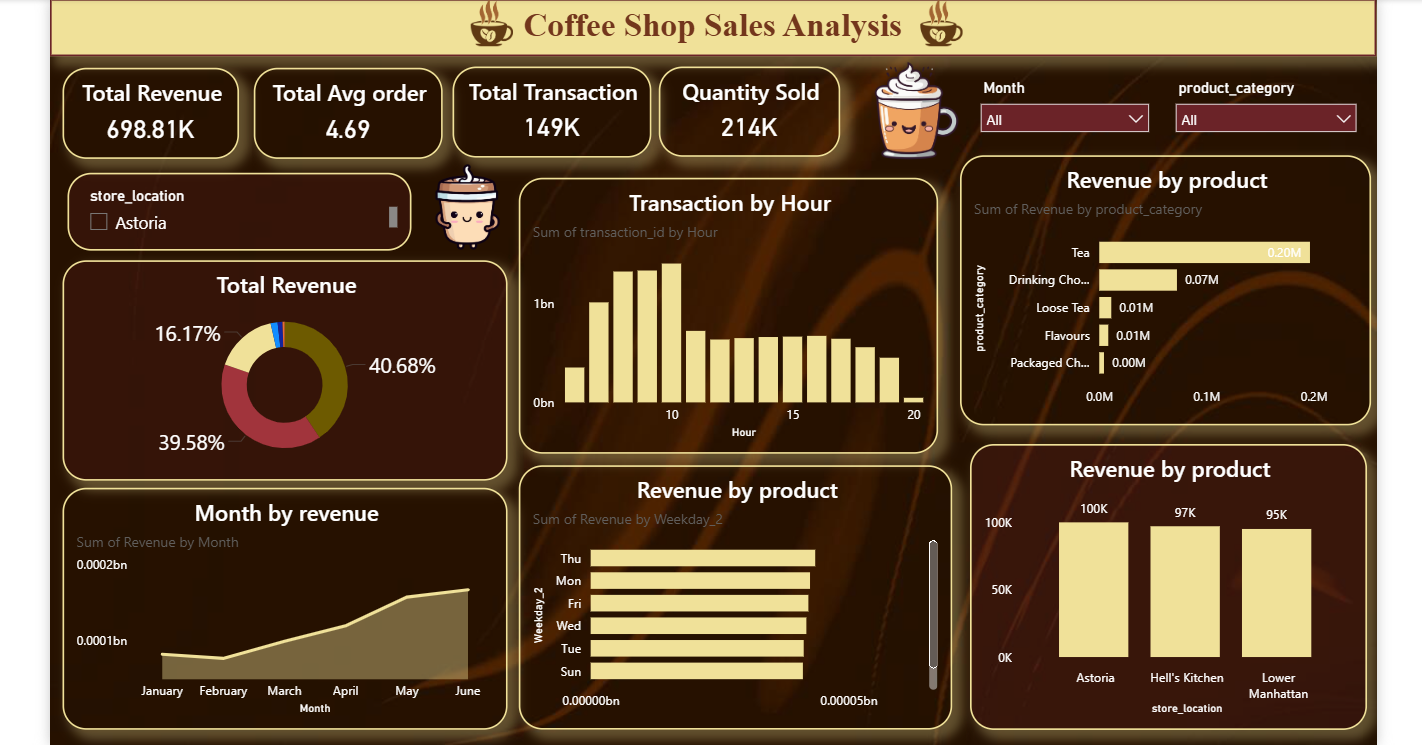

The page's visual inventory and layout, read from the dashboard file:
{"tool":"powerbi","page":{"name":"Page 1","canvas":[1280,720],"ordinal":0},"visuals":[{"type":"card","title":"Total Revenue","fields":{"Values":["Sum(Sheet1.Revenue)"]},"box":[12.1,66.4,170.1,88.1],"z":0},{"type":"card","title":"Total Avg order","fields":{"Values":["Sheet1.Avg Order Value"]},"box":[196.6,66.4,182.2,88.1],"z":1000},{"type":"card","title":"Total Transaction","fields":{"Values":["Sheet1.Total Transactions"]},"box":[388.5,65.1,191.8,88.1],"z":2000},{"type":"card","title":" Quantity Sold","fields":{"Values":["Sheet1.Total Quantity Sold"]},"box":[587.5,65.1,174.9,86.9],"z":3000},{"type":"areaChart","title":" Month by revenue","fields":{"Category":["Sheet1.transaction_date.Variation.Date Hierarchy.Month"],"Y":["Sum(Sheet1.Revenue)"]},"box":[12.3,472,429.5,233.3],"z":4000},{"type":"clusteredBarChart","title":"Revenue by product","fields":{"Category":["Sheet1.product_category"],"Y":["Sum(Sheet1.Revenue)"]},"box":[878.2,150.9,396.6,260.7],"z":5000},{"type":"donutChart","title":"Total Revenue","fields":{"Category":["Sheet1.product_category"],"Y":["CountNonNull(Sheet1.transaction_id)"]},"box":[12.3,252.5,429.5,212.7],"z":6000},{"type":"slicer","fields":{"Values":["Sheet1.Month"]},"box":[887.8,72.7,182.5,68.6],"z":7000},{"type":"slicer","fields":{"Values":["Sheet1.store_location"]},"box":[16.5,167.4,332.1,75.5],"z":8000},{"type":"lineClusteredColumnComboChart","title":"Transaction by Hour","fields":{"Category":["Sheet1.Hour"],"Y":["Sum(Sheet1.transaction_id)"]},"box":[452.8,172.9,404.8,266.2],"z":9000},{"type":"textbox","box":[0,0,1280,55.5],"z":10000},{"type":"slicer","fields":{"Values":["Sheet1.product_category"]},"box":[1075.8,72.7,194.9,81],"z":11000},{"type":"columnChart","title":"Revenue by product","fields":{"Category":["Sheet1.store_location"],"Y":["Sum(Sheet1.Revenue)"]},"box":[878.3,427.1,392.1,278.7],"z":12000},{"type":"clusteredBarChart","title":"Revenue by product","fields":{"Y":["Sum(Sheet1.Revenue)"],"Category":["Sheet1.Weekday_2"]},"box":[452.8,450.1,418.5,255.2],"z":13000},{"type":"image","box":[821.6,0,77.2,45.8],"z":14000},{"type":"image","box":[388.5,0,76,45.8],"z":15000},{"type":"image","box":[325.2,159.2,159.2,86.4],"z":16000},{"type":"image","box":[750.6,56.3,170.2,102.9],"z":16001}]}

Visuals, with their boxes in screenshot pixels (x1, y1, x2, y2):
"Total Revenue" card: bbox=[42, 63, 222, 156]
"Total Avg order" card: bbox=[237, 63, 430, 156]
"Total Transaction" card: bbox=[440, 61, 643, 155]
" Quantity Sold" card: bbox=[651, 61, 835, 153]
" Month by revenue" areaChart: bbox=[43, 491, 497, 738]
"Revenue by product" clusteredBarChart: bbox=[958, 152, 1377, 428]
"Total Revenue" donutChart: bbox=[43, 259, 497, 484]
slicer - Sheet1.Month: bbox=[968, 69, 1161, 142]
slicer - Sheet1.store_location: bbox=[47, 170, 398, 249]
"Transaction by Hour" lineClusteredColumnComboChart: bbox=[508, 175, 936, 457]
textbox: bbox=[30, 0, 1383, 51]
slicer - Sheet1.product_category: bbox=[1167, 69, 1373, 155]
"Revenue by product" columnChart: bbox=[958, 444, 1372, 739]
"Revenue by product" clusteredBarChart: bbox=[508, 468, 951, 738]
image: bbox=[898, 0, 980, 41]
image: bbox=[440, 0, 521, 41]
image: bbox=[373, 161, 542, 252]
image: bbox=[823, 52, 1003, 161]
